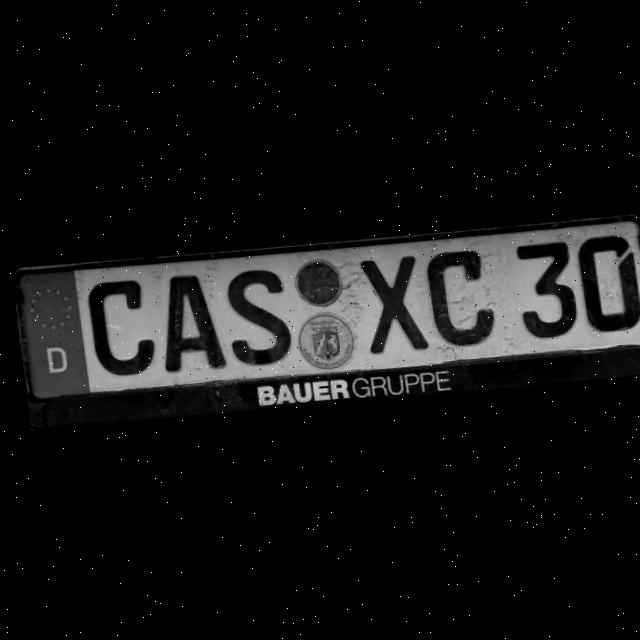license-plates: (15, 218, 640, 400)
